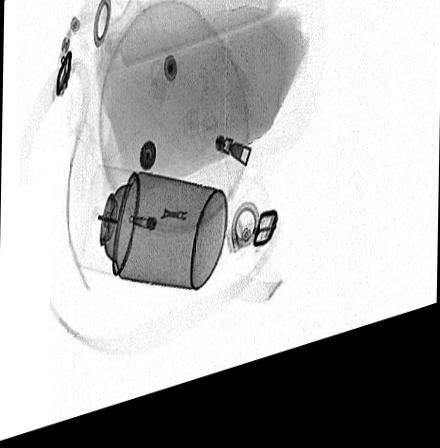Sprayer: (75, 170, 227, 301)
